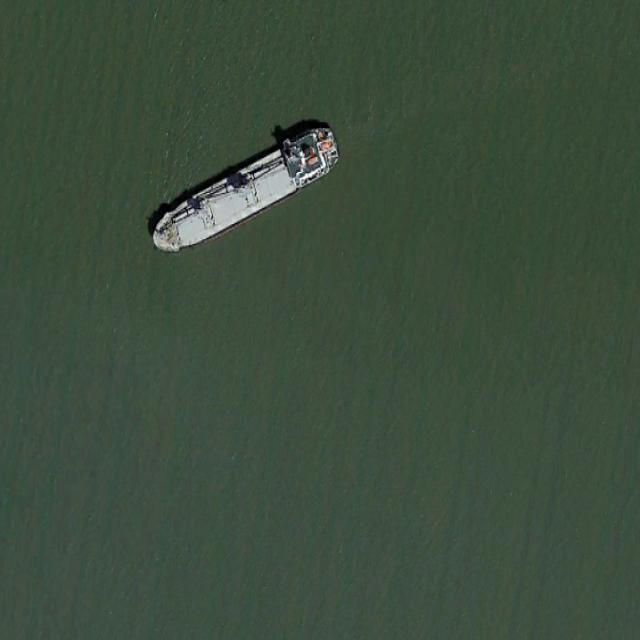Other Ship: (143, 118, 344, 265)
